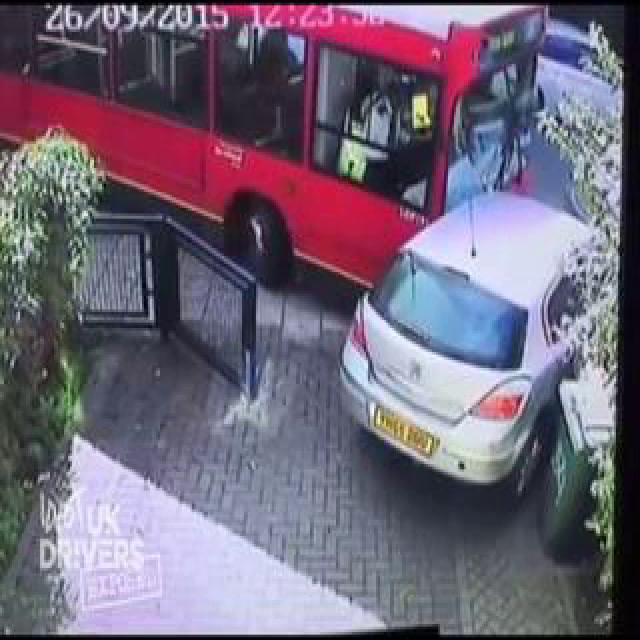road accidents: (309, 91, 640, 553)
